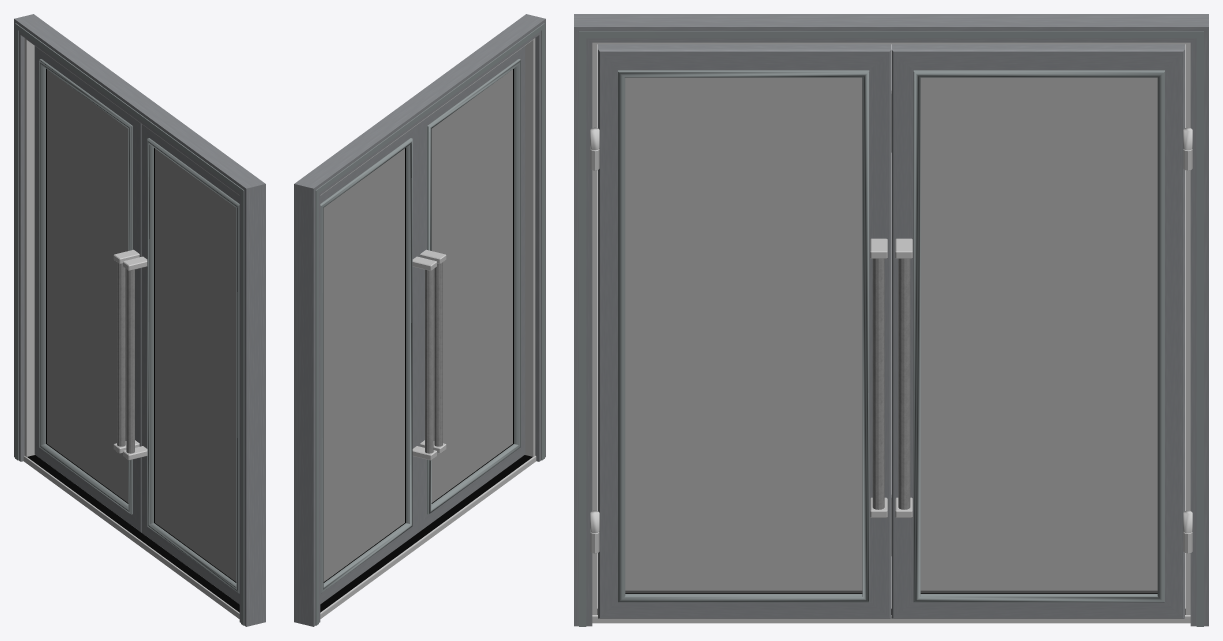
File: Building01_DualDoor.fbx
3 renders of one model, left to right at view 1: azimuth 30°, elevation 25°; view 2: azimuth 150°, elevation 25°; view 3: azimuth 270°, elevation 25°, orthographic. The views are drawn at different scales.
Parts seen in each view (by area): view 1: Door_A, Door_B, DualDoor; view 2: Door_B, Door_A, DualDoor; view 3: Door_A, Door_B, DualDoor.
Part boxes in pixels (x1=…): Door_A: x1=34, y1=46, x2=141, y2=532; Door_B: x1=123, y1=124, x2=239, y2=604; DualDoor: x1=14, y1=14, x2=265, y2=626; Door_B: x1=418, y1=46, x2=525, y2=532; Door_A: x1=320, y1=124, x2=436, y2=604; DualDoor: x1=294, y1=14, x2=545, y2=626; Door_A: x1=891, y1=44, x2=1192, y2=618; Door_B: x1=590, y1=44, x2=891, y2=618; DualDoor: x1=574, y1=14, x2=1208, y2=626.
Size of the model in its own units: 27.67 by 235 by 226.
